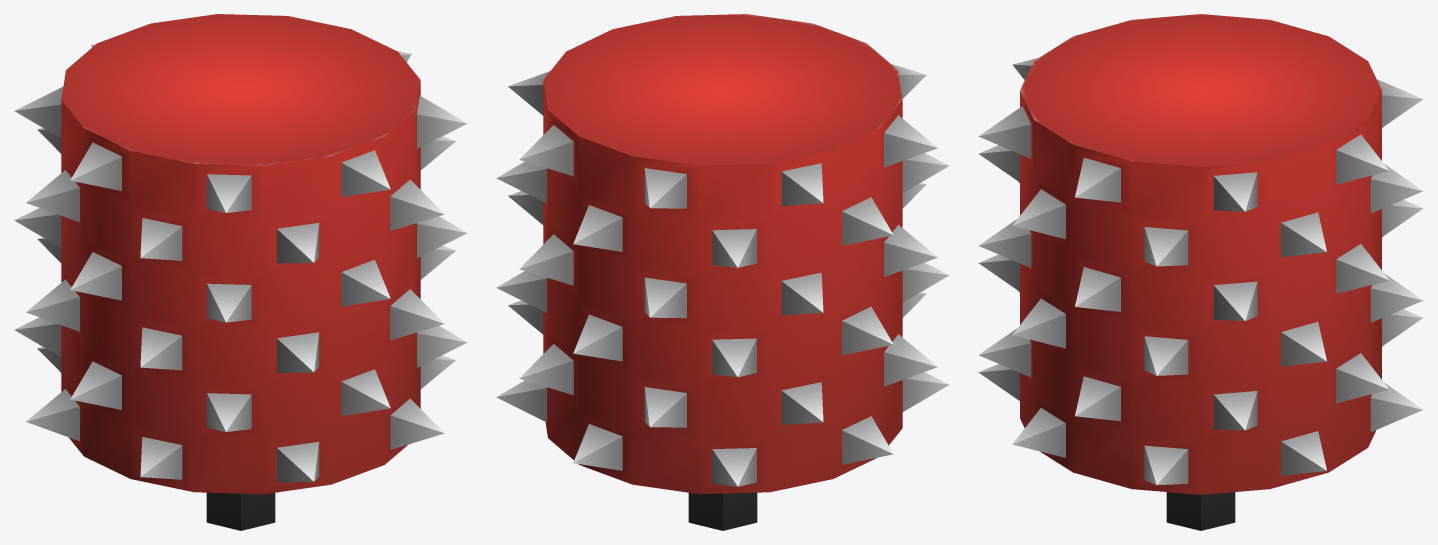
File: hurdle animated.fbx
3 renders of one model, left to right at view 1: azimuth 30°, elevation 25°; view 2: azimuth 150°, elevation 25°; view 3: azimuth 270°, elevation 25°, orthographic.
Parts seen in each view (by area): view 1: animated_hurdle; view 2: animated_hurdle; view 3: animated_hurdle.
Part boxes in pixels (<box>): animated_hurdle: <box>14,14,467,530</box>; animated_hurdle: <box>496,14,949,530</box>; animated_hurdle: <box>978,14,1423,530</box>.
Size of the model in its own units: 14.61 by 15.34 by 14.61.
Materials: 1 (1 with a texture image).
